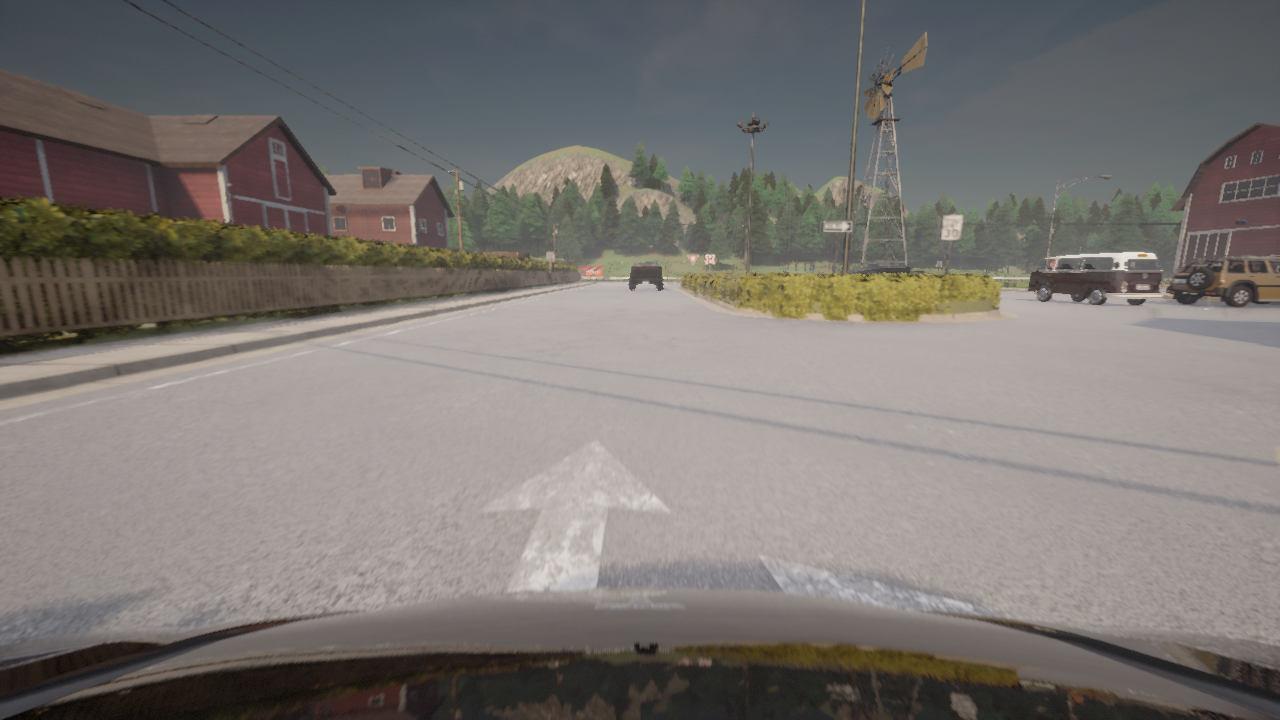cyclist: (0, 588, 1279, 719), (1026, 251, 1163, 305), (1166, 255, 1279, 307), (629, 262, 661, 289), (848, 262, 911, 274), (578, 265, 603, 281), (911, 271, 929, 274), (578, 277, 582, 281)
